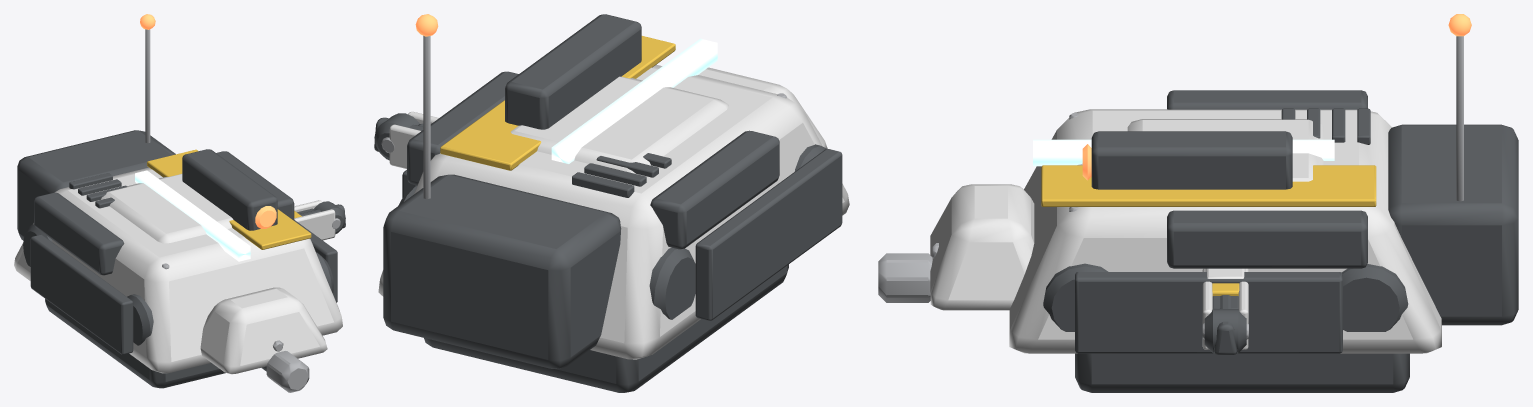
The model's file is rifle.glb.
3 views of the same model, side by side, from view 1: azimuth 30°, elevation 25°; view 2: azimuth 150°, elevation 25°; view 3: azimuth 270°, elevation 25° (orthographic). The views are drawn at different scales.
Parts seen in each view (by area): view 1: Hull, Turret, Barrel, LegUpper; view 2: Hull, Turret, LegUpper; view 3: Hull, Turret, LegUpper, Barrel, LegLower.
Boxes of the visible parts, box(x1,y1,x2,y2) form: Hull: box(14, 14, 342, 388); Turret: box(101, 149, 277, 243); Barrel: box(261, 340, 309, 392); LegUpper: box(294, 200, 345, 240); Hull: box(378, 14, 849, 392); Turret: box(505, 14, 728, 173); LegUpper: box(374, 111, 438, 168); Hull: box(930, 14, 1518, 392); Turret: box(1082, 119, 1323, 189); LegUpper: box(1202, 268, 1248, 353); Barrel: box(878, 243, 938, 302); LegLower: box(1212, 283, 1239, 354).
Bounding box in the file's own units: 0.547 × 0.484 × 0.765.
